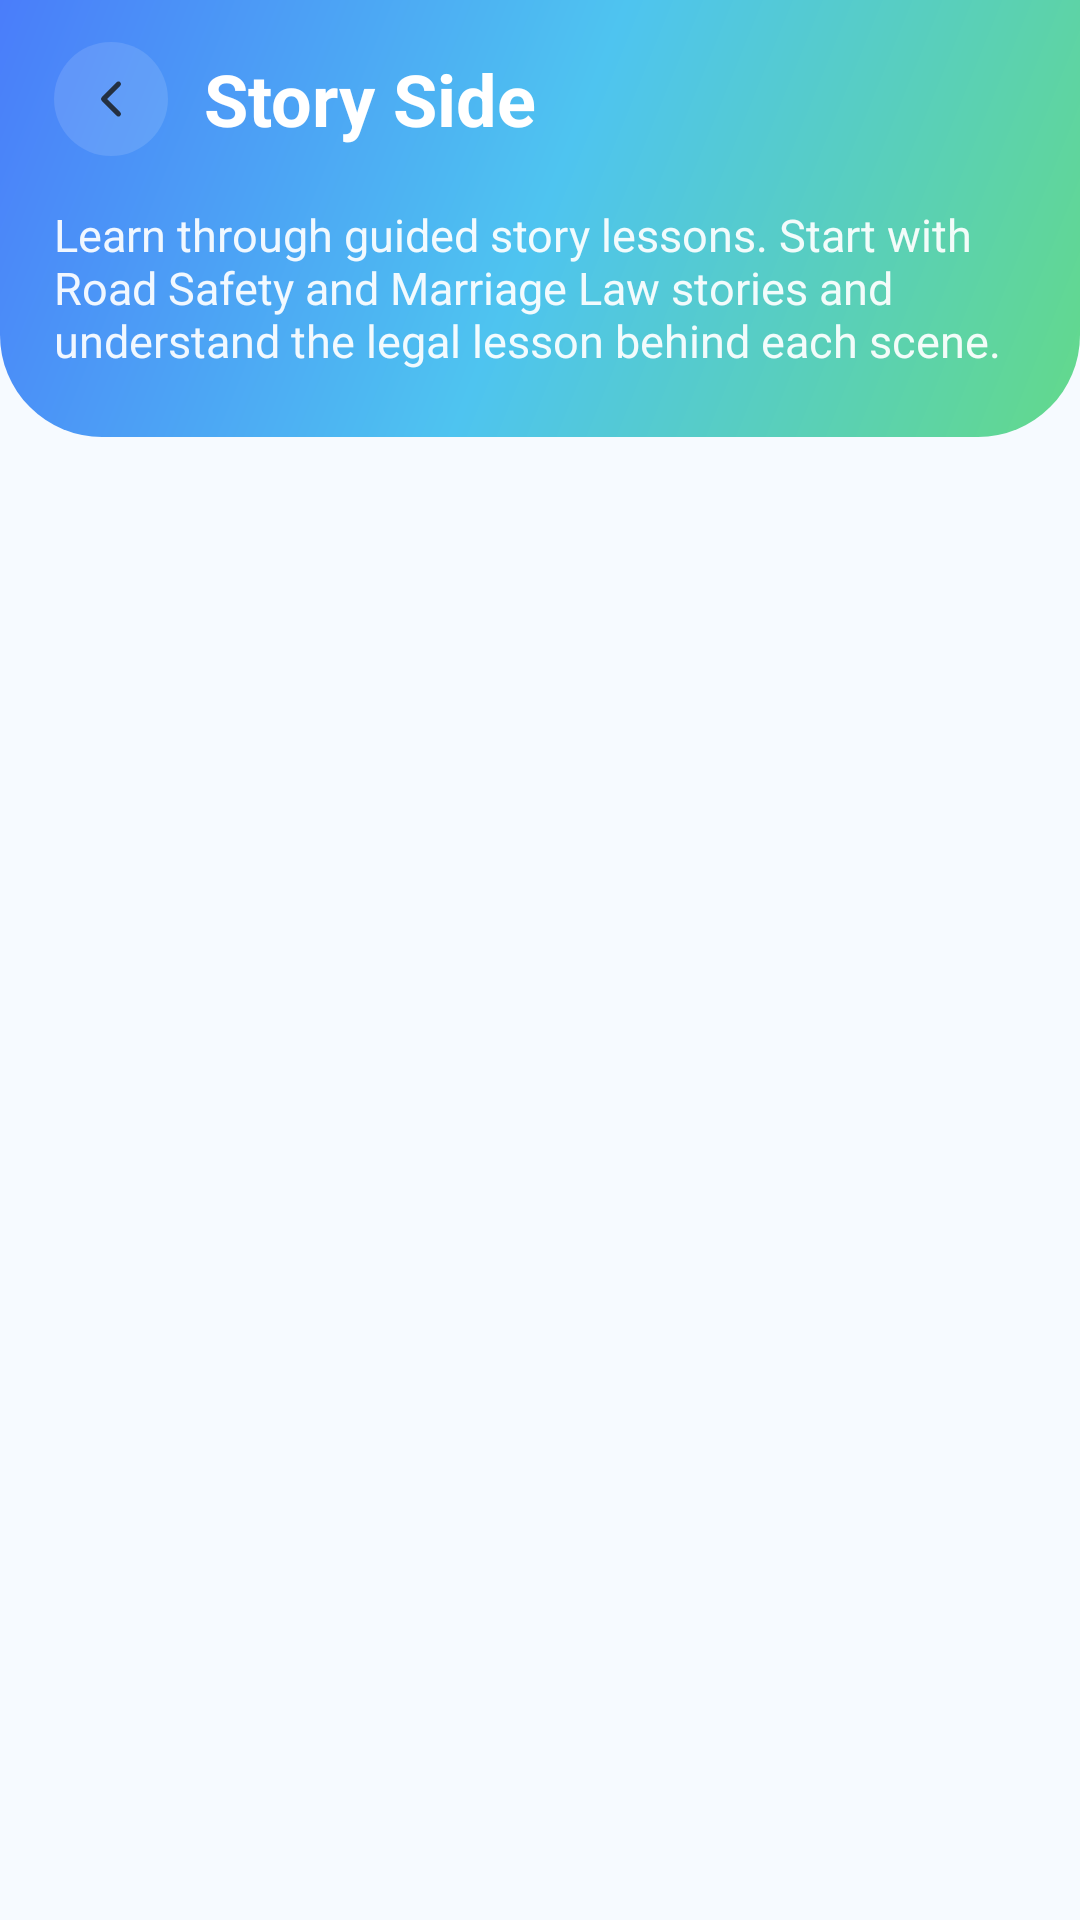

Screen size 1080px×1920px. Icon name, then its box in pixels as (x1, y1, x2, y2):
back: (101, 81, 121, 117)
